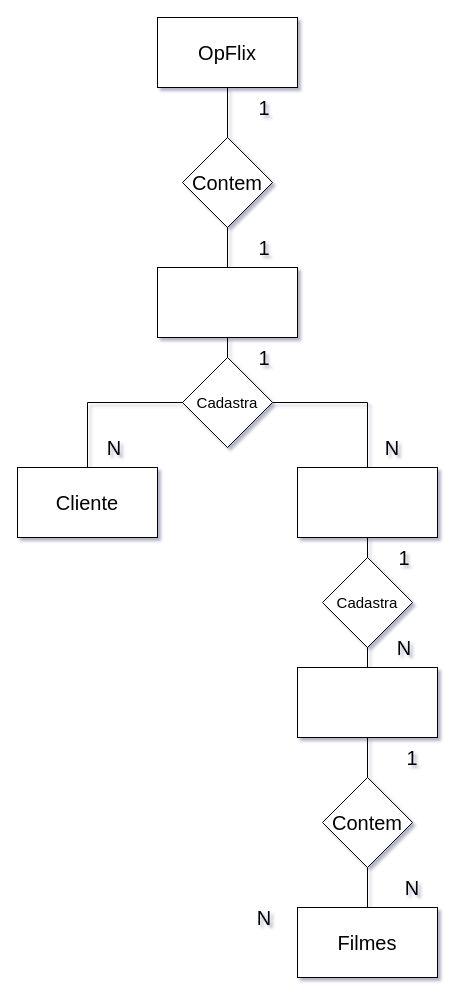
This 461x1001 diagram has some shape labels left out. Each missing label, with the centre of its shape:
"Administrador" belongs at (x=367, y=502).
"Administrador principal" belongs at (x=227, y=302).
"Categoria" belongs at (x=367, y=702).
